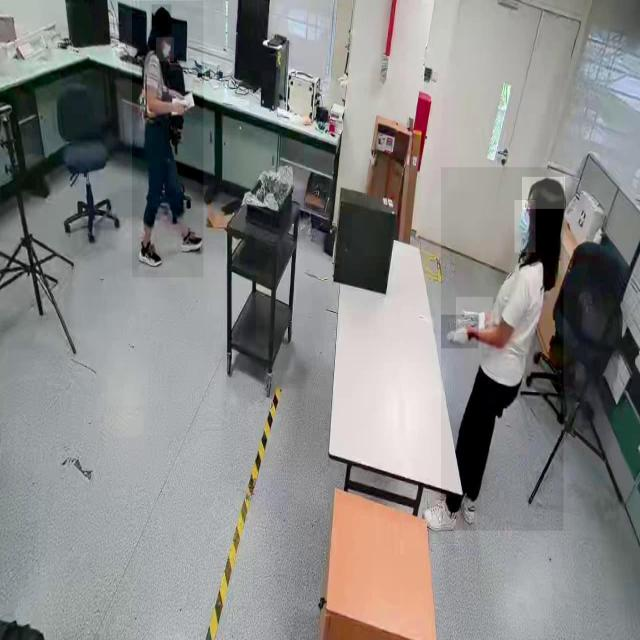face_mask: (514, 200, 536, 252), (156, 38, 174, 62)
hand_glove: (441, 314, 479, 348), (456, 297, 492, 332)
hand_noglove: (169, 98, 187, 115)
head_nohelmet: (522, 177, 566, 210), (152, 5, 172, 28)
person: (441, 167, 564, 532), (132, 1, 204, 278)
shoes: (424, 495, 462, 539), (456, 478, 479, 534), (136, 236, 163, 273), (174, 220, 204, 252)
